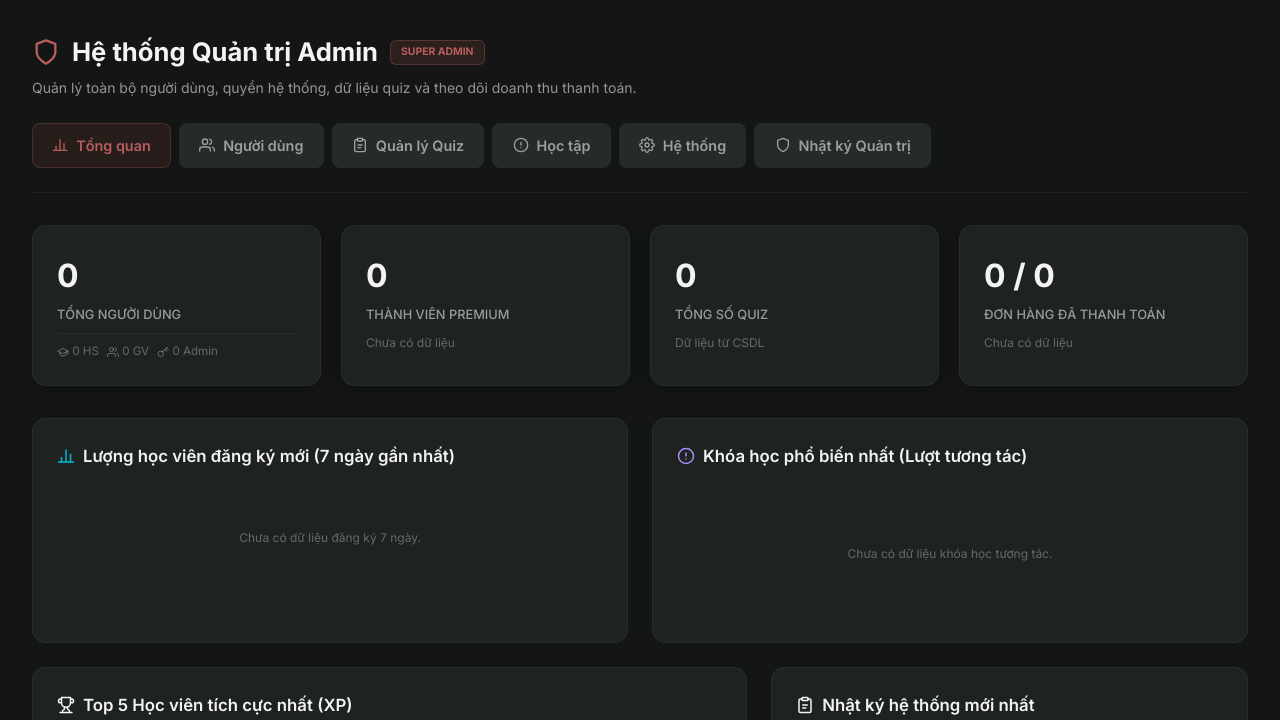
Scenario: AdminPanelView — P0 Tests › Tab Navigation › switches to "users" tab when clicked
Step 1. Click the tab with class "tab-btn" showing "Người dùng" → (251, 145), box [179,123,324,168]
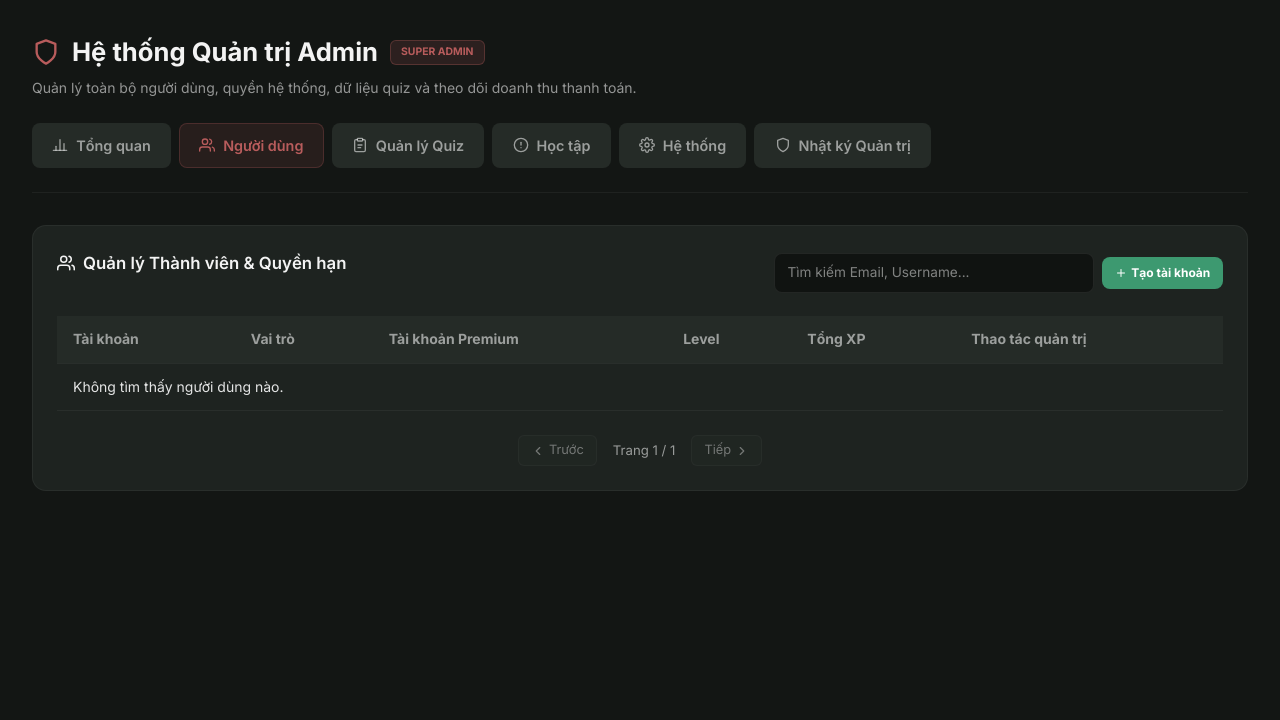
Check: the text "Quản lý Thành viên & Quyền hạn" is shown, box [57,250,346,276]
